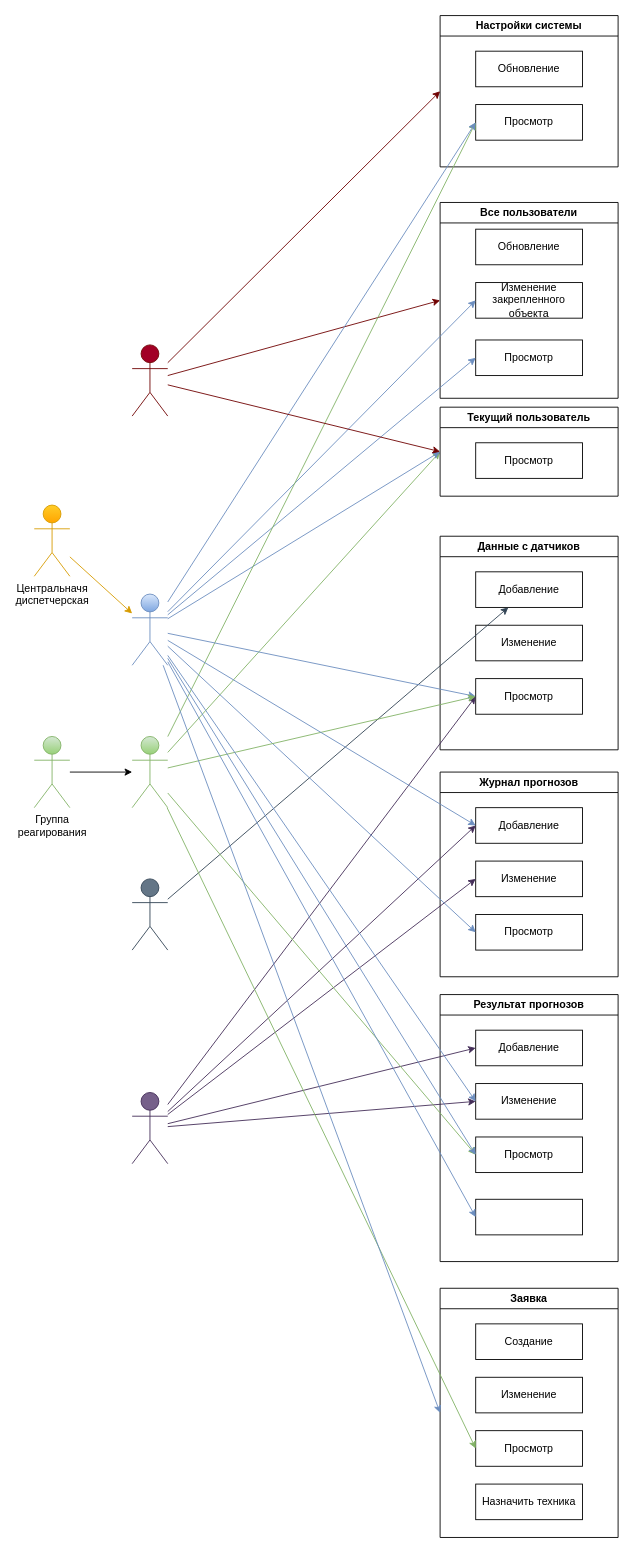
This 634x1553 diagram has some shape labels left out. The shapes that lost their labels are listed below. From the top down, each one's centre as x and y in pixels, then its label:
At (x=149, y=380): "Администратор".
At (x=149, y=629): "Диспетчер".
At (x=149, y=772): "Техник".
At (x=149, y=914): "Внешние сервисы".
At (x=149, y=1128): "ML Модель".
At (x=529, y=1216): "Взять в работу диспетчером".
